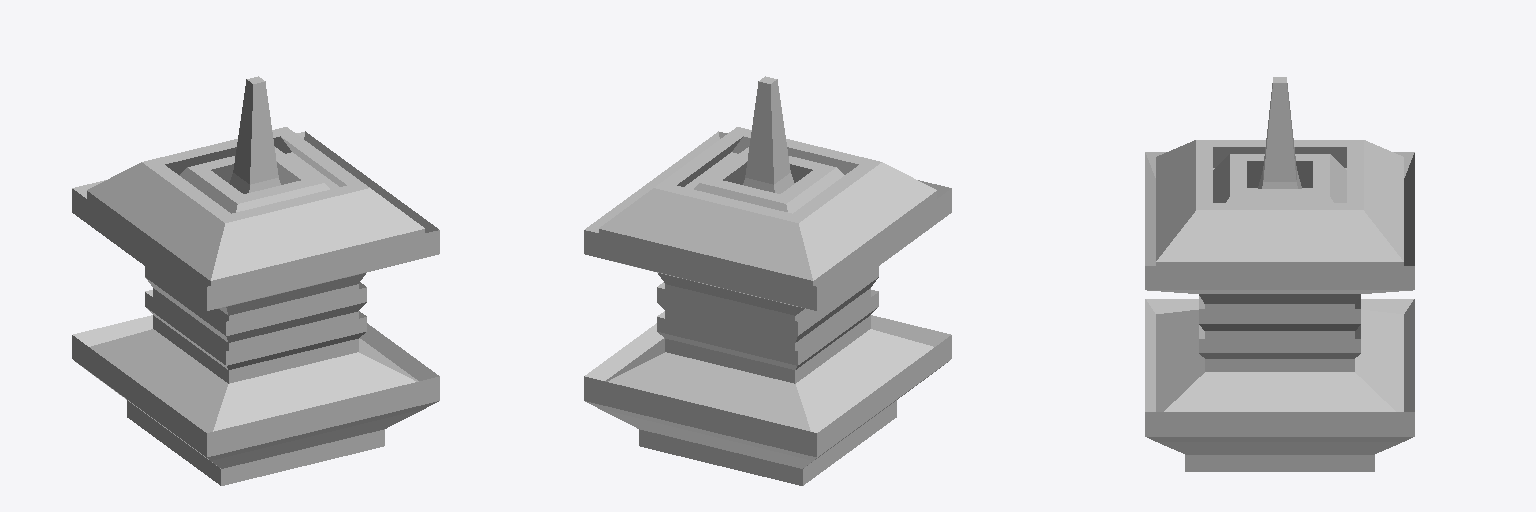
Rendered from Power Station.obj.
The picture shows the model from 3 angles: view 1: azimuth 30°, elevation 25°; view 2: azimuth 150°, elevation 25°; view 3: azimuth 270°, elevation 25°; orthographic projection.
Parts seen in each view (by area): view 1: PowerStation; view 2: PowerStation; view 3: PowerStation.
Boxes of the visible parts, x1,y1,x2,y2 form: PowerStation: [72, 76, 439, 485]; PowerStation: [584, 76, 951, 485]; PowerStation: [1145, 77, 1414, 471].
Bounding box in the file's own units: 2.38 × 3.43 × 2.38.